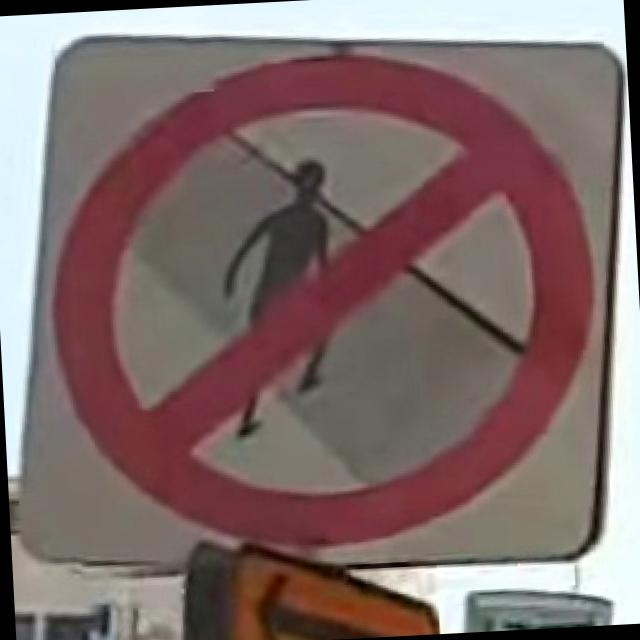nojaywalking_sign: (0, 3, 640, 589)
